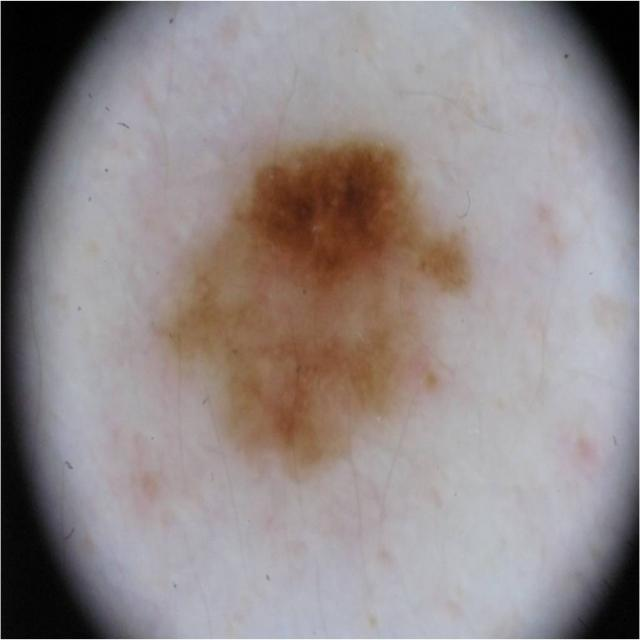Benign: (160, 131, 475, 485)
